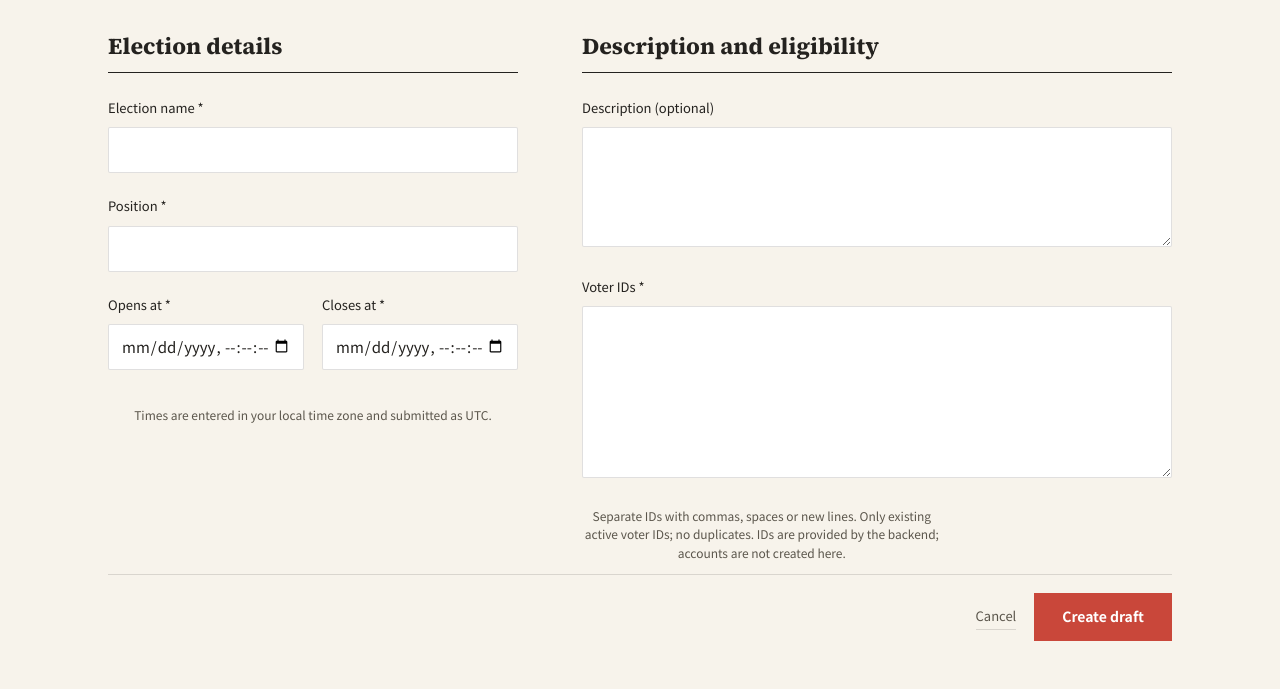
it: create election › blocks blank, duplicate ID, and invalid time submissions before requesting the backend
This screenshot has width=1280, height=689.
(page scrolled)
What coordinates should you click on to do the following:
click the button "Create draft"
I would click on:
 (1103, 617)
Its box is [1034, 593, 1172, 641].
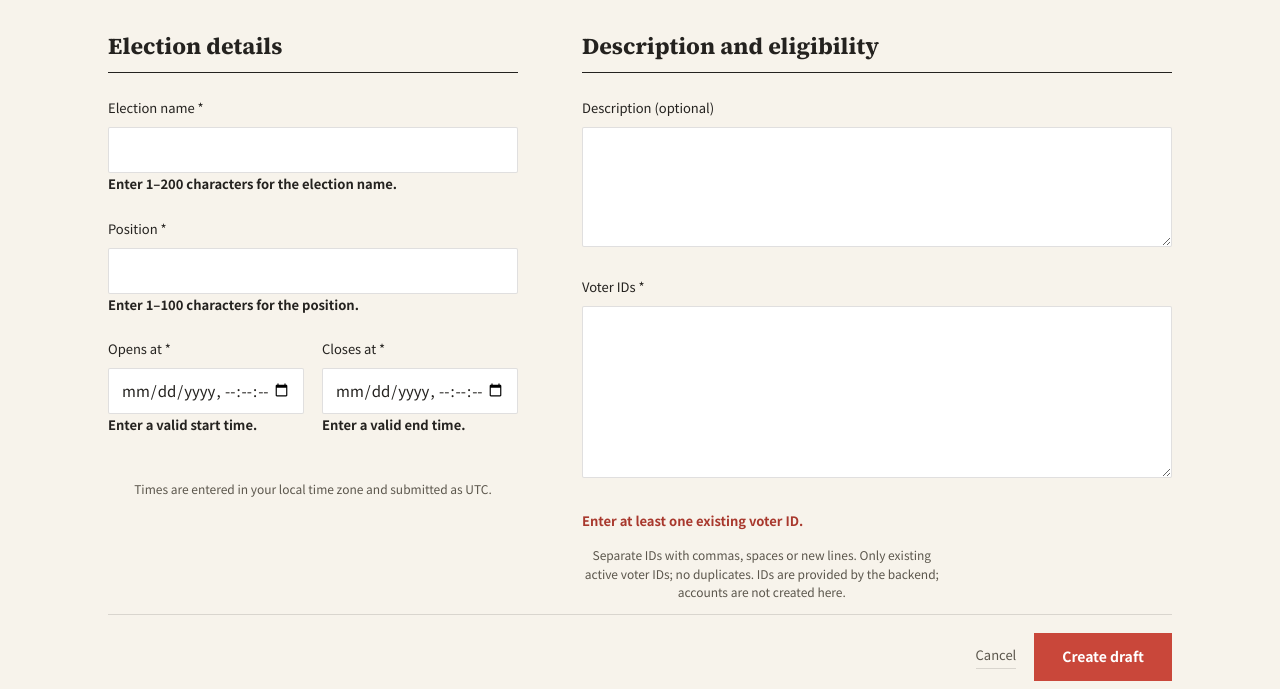
Check: the text "Enter 1–200 characters for the election name." is shown, box [108, 174, 397, 194]
